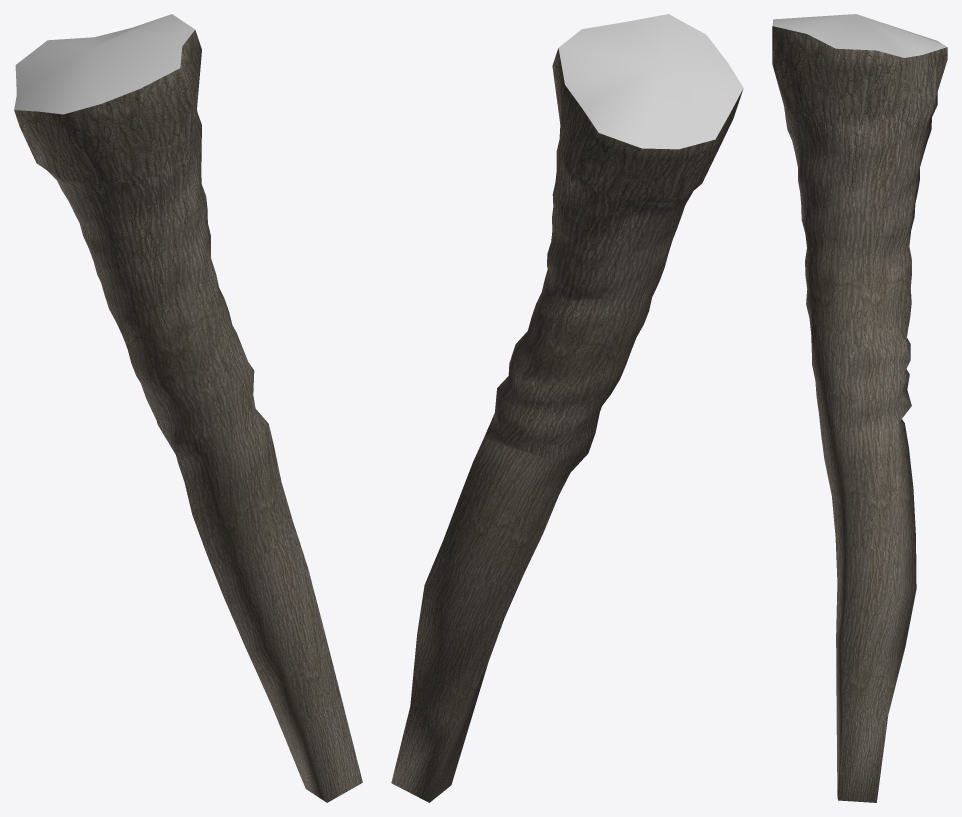
File: WhiteOak_TreeAsClub.obj
3 views of the same model, side by side, from view 1: azimuth 30°, elevation 25°; view 2: azimuth 150°, elevation 25°; view 3: azimuth 270°, elevation 25° (orthographic). The views are drawn at different scales.
Visible parts, largest first — view 1: LOD0SG; view 2: LOD0SG; view 3: LOD0SG.
Part boxes in pixels (x1,y1,x2,y2): LOD0SG: (14,14,362,802); LOD0SG: (391,14,743,802); LOD0SG: (772,14,947,802).
Bounding box in the file's own units: 4.98 × 11.69 × 2.67.
